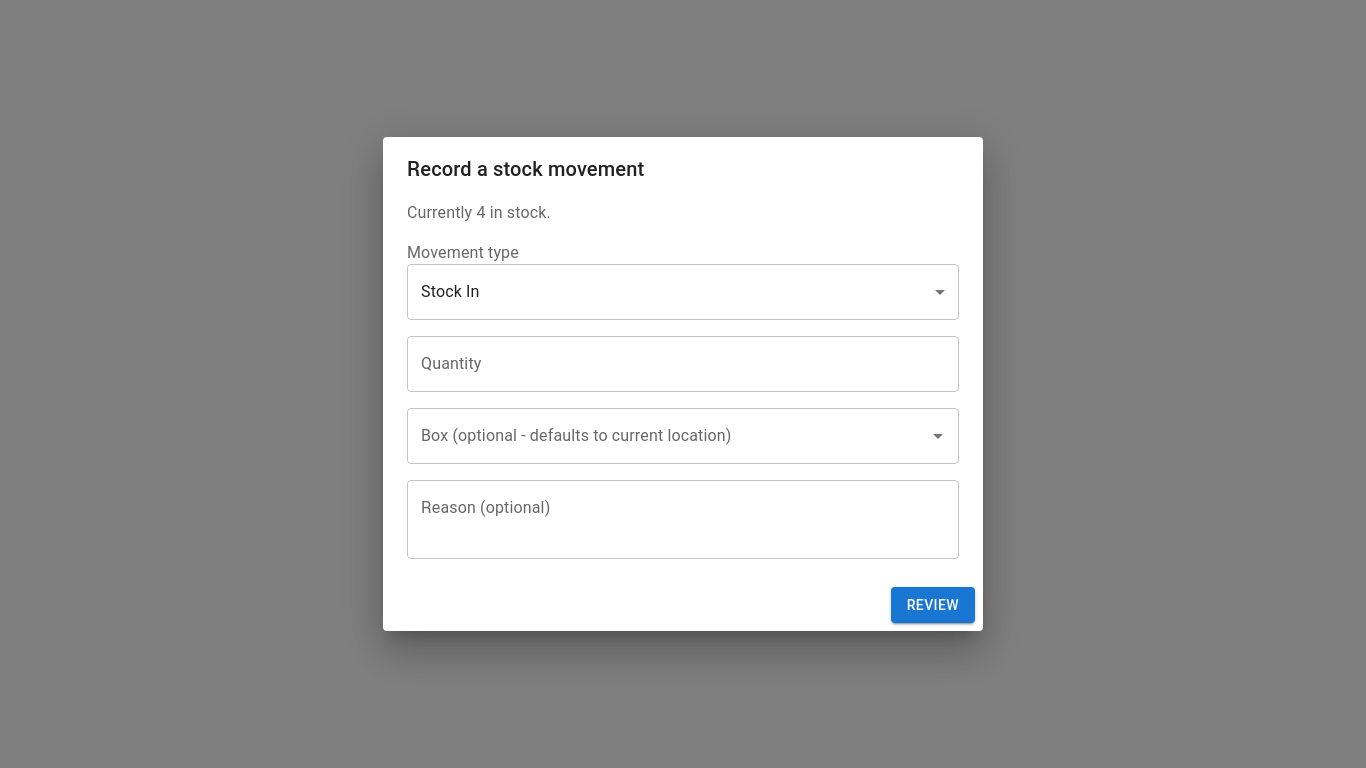
Scenario: StockMovementDialog › Adjust: rejects an adjustment that would take quantity below zero
Click the dropdown labelled "Stock In" at (450, 292), box [421, 282, 480, 301]
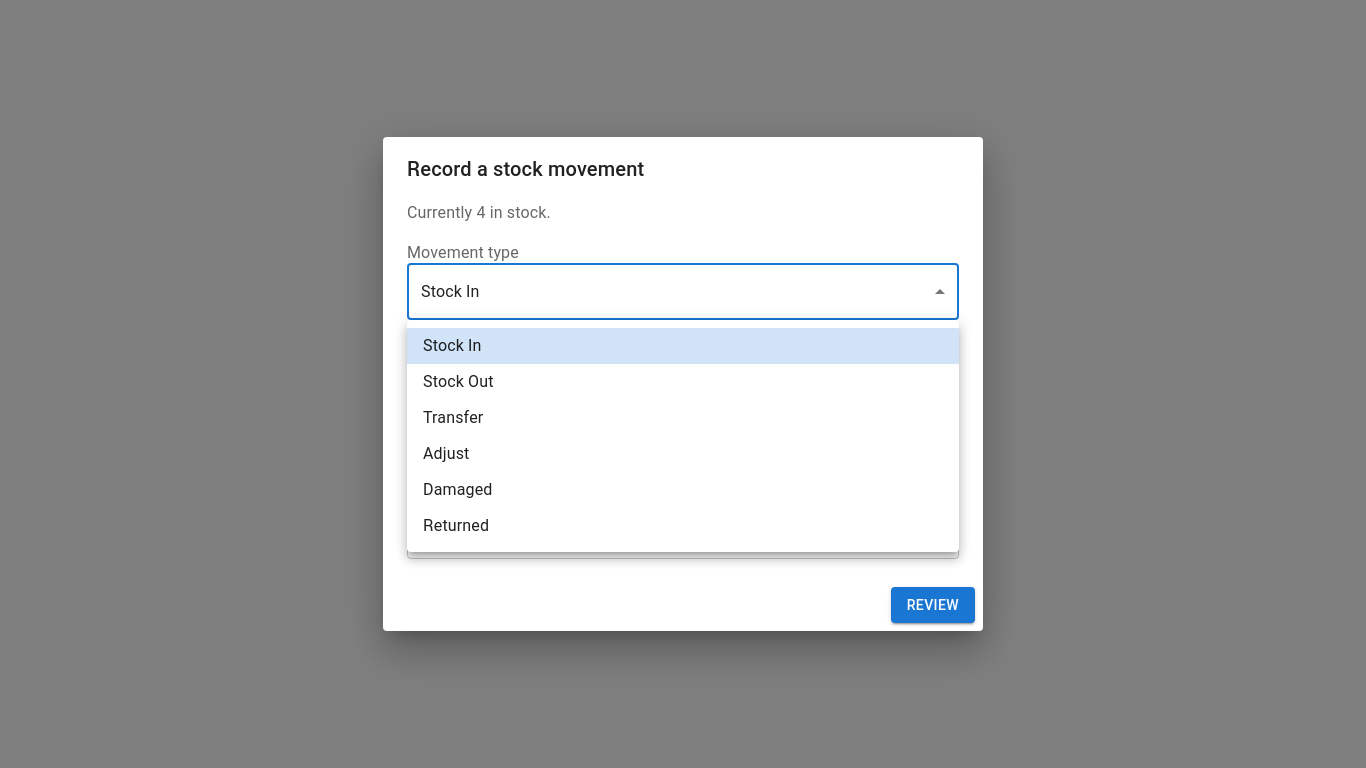
Click the option "Adjust" at (446, 454), box [423, 444, 470, 463]
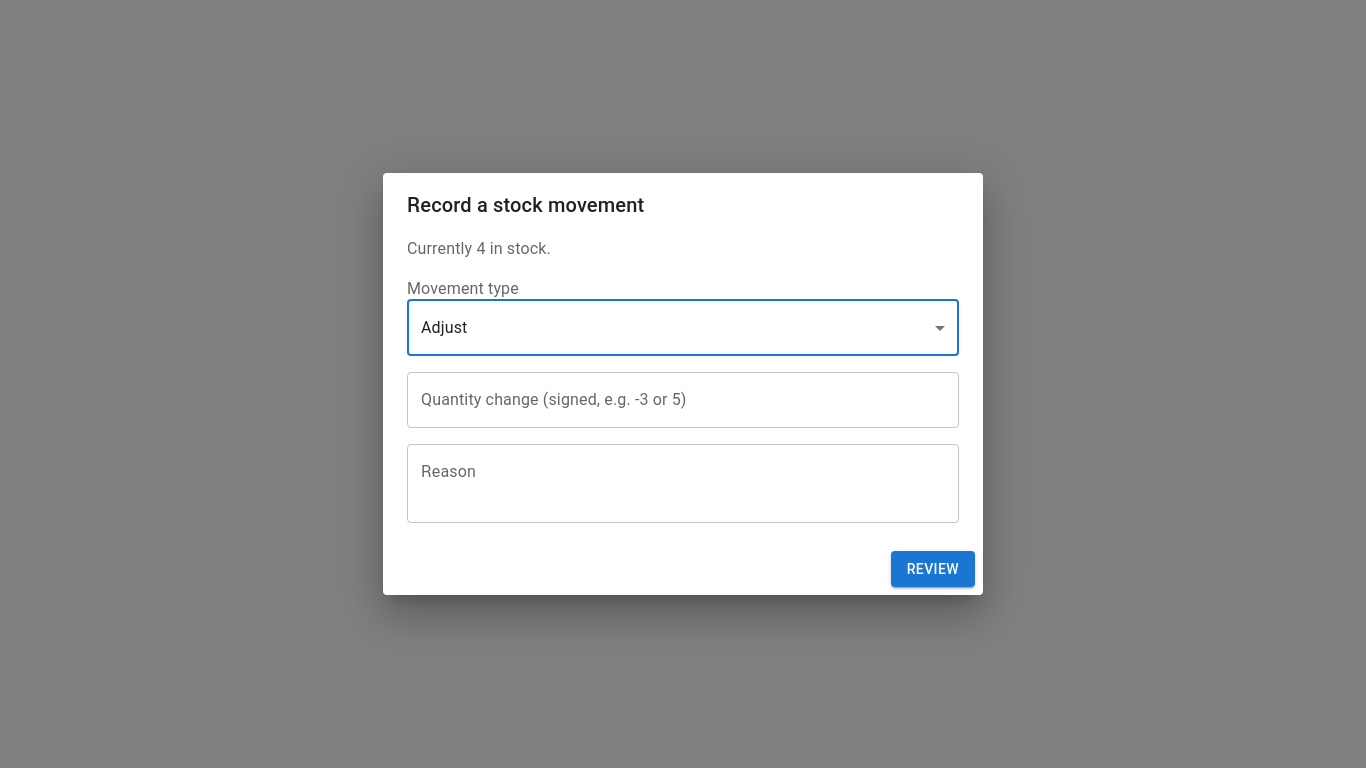
Type "-9" into the number field at (683, 400), box [407, 372, 959, 428]
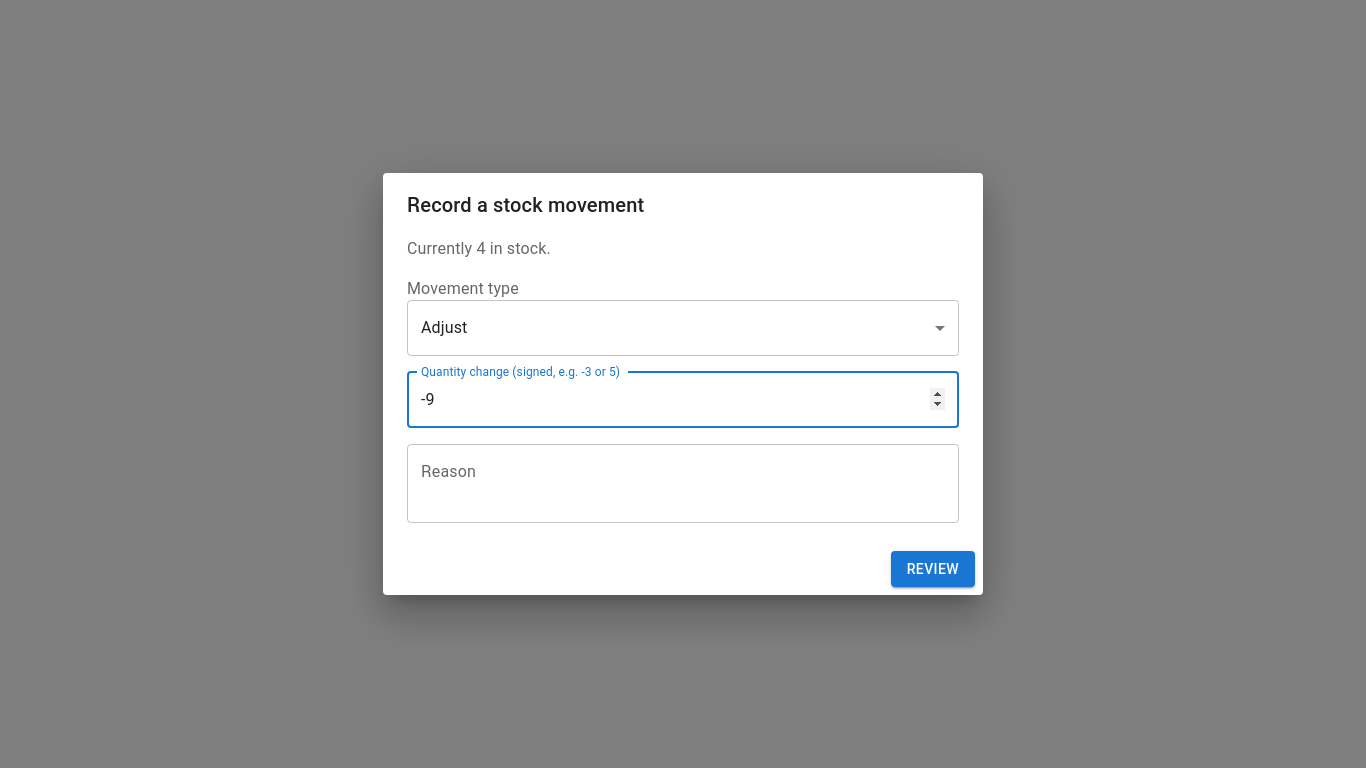
Type "Count correction" into the text box at (683, 483), box [421, 460, 945, 506]
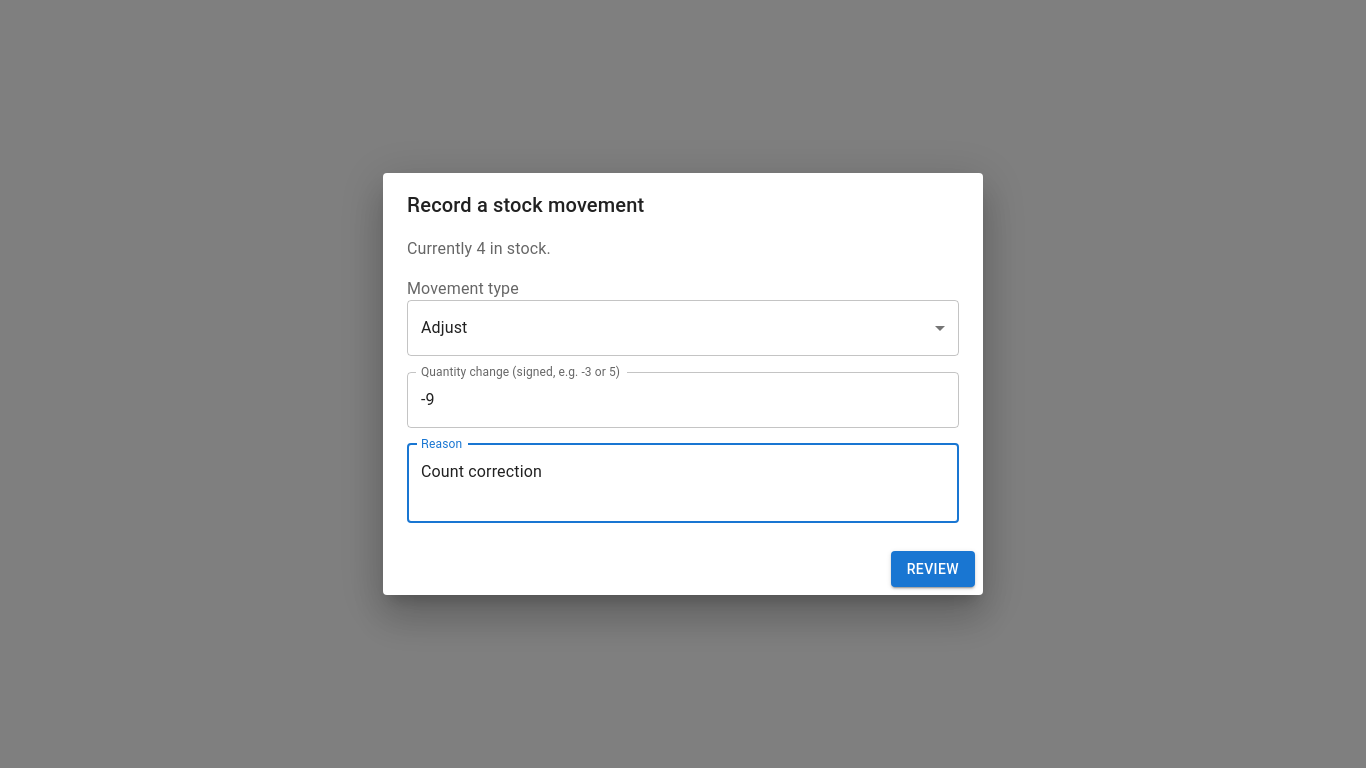
Click the button "Review" at (933, 569), box [891, 551, 975, 587]
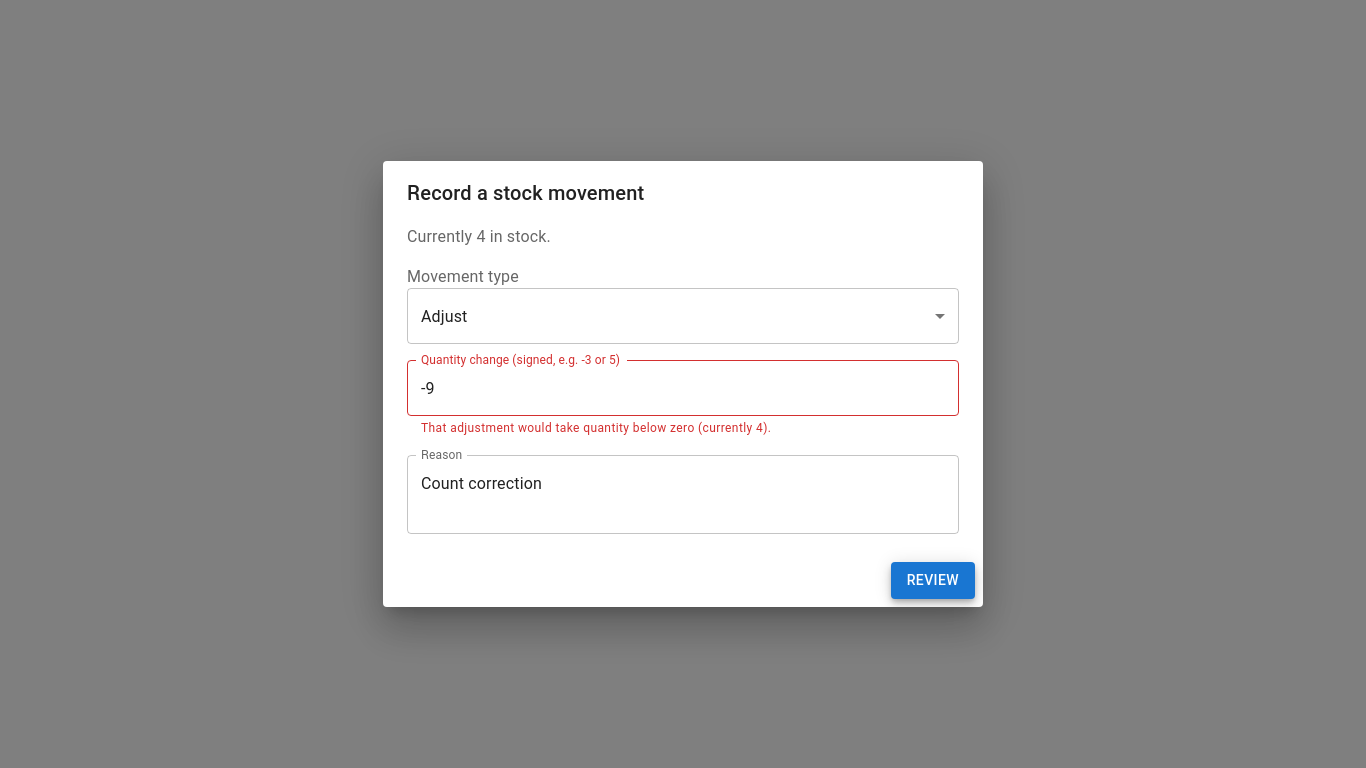
Expected: the text "That adjustment would take quantity below zero (currently 4)." is shown, [421, 421, 771, 435]
